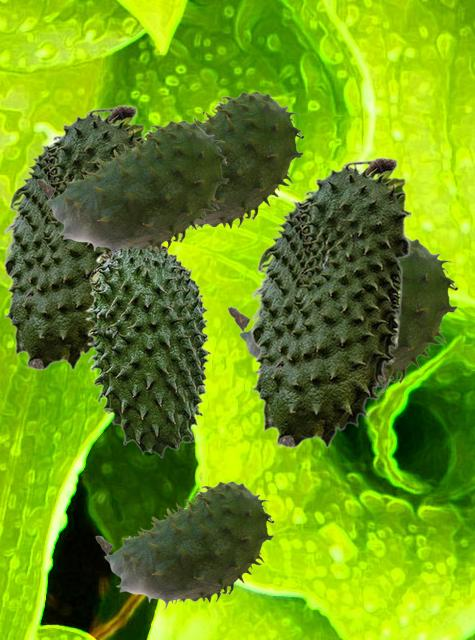guyabano: (249, 156, 411, 448), (2, 104, 146, 370), (227, 238, 457, 393), (85, 245, 211, 457), (36, 120, 228, 258), (95, 481, 273, 609), (180, 91, 303, 235)
